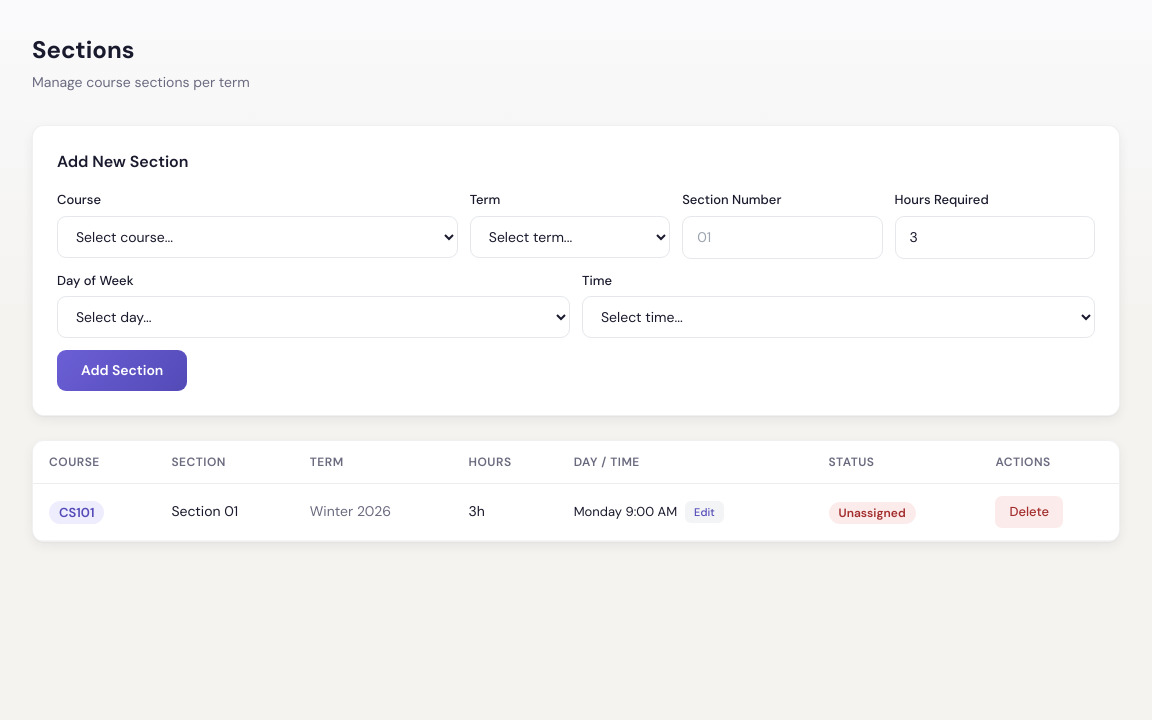
AdminSections › deletes a section
What coordinates should you click on to do the following:
click the button "Delete"
I would click on:
 (1029, 512)
Its box is [995, 496, 1063, 528].
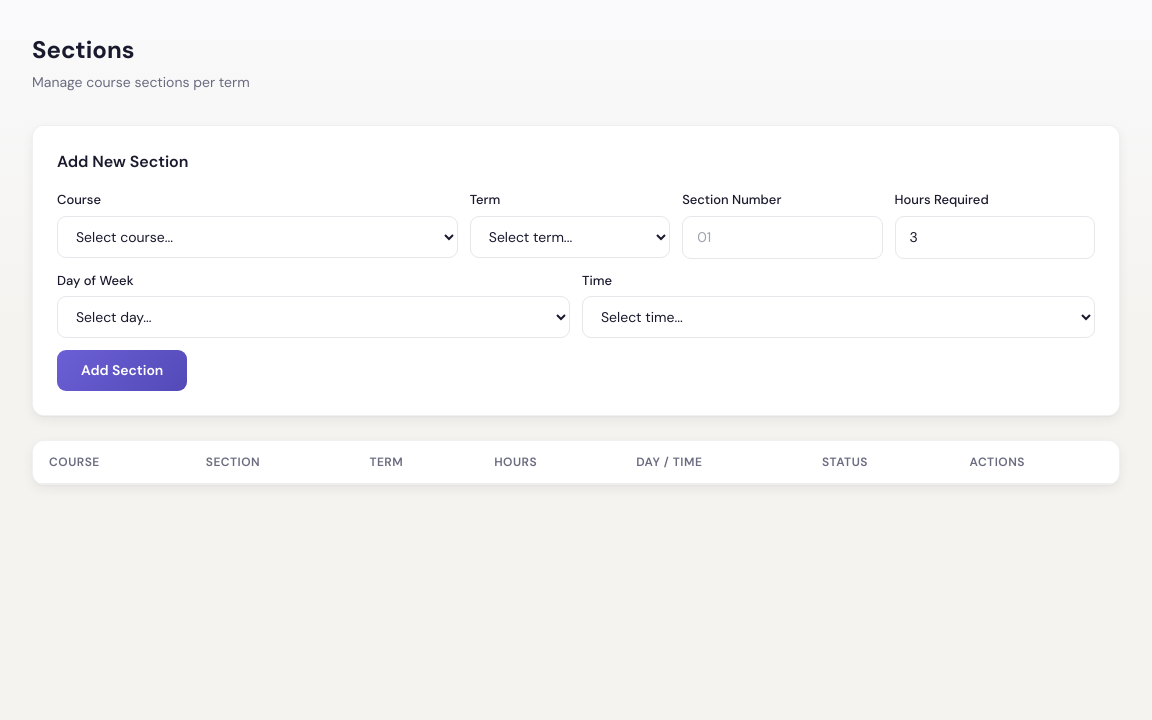
Check: the text "CS101" is gone
